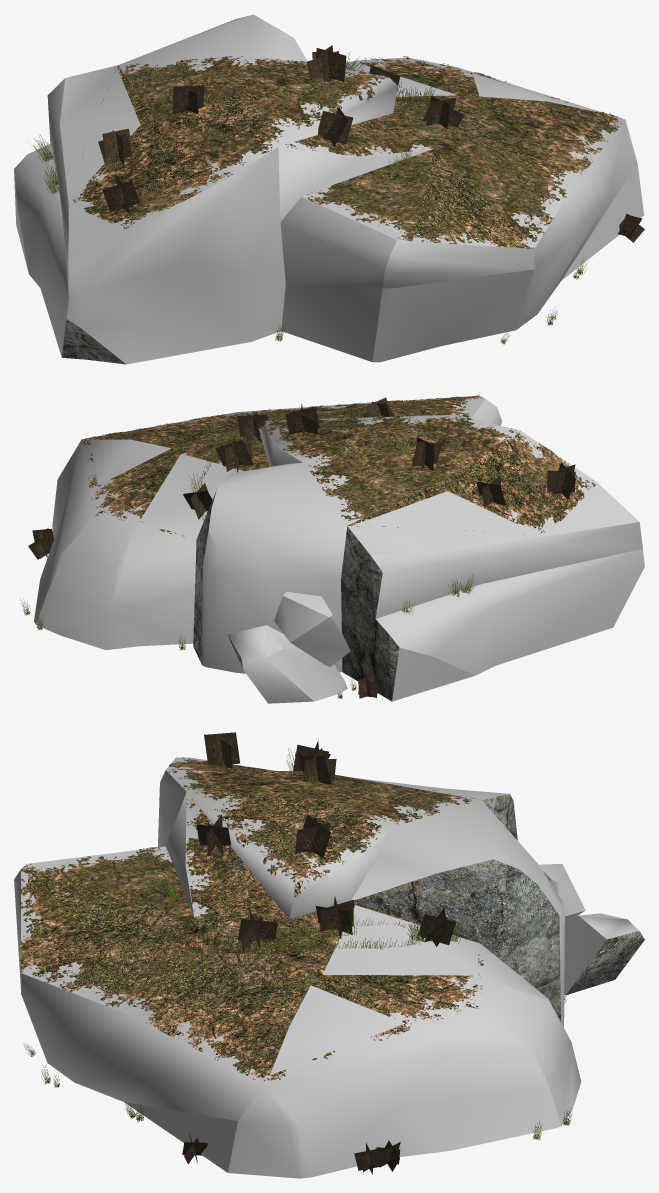
File: RockOutcrop3.obj
The picture shows the model from 3 angles, top to bottom: view 1: azimuth 30°, elevation 25°; view 2: azimuth 150°, elevation 25°; view 3: azimuth 270°, elevation 25°; orthographic projection. The views are drawn at different scales.
Visible parts, largest first — view 1: outcropC, outcropCsoil, drybush45, drybush32, drybush30, drybush43, drybush46, drybush31, drygrassrow01; view 2: outcropC, outcropCsoil, drybush44, drybush45, drybush31, drybush46, drybush43, drybush32, drybush29; view 3: outcropC, outcropCsoil, drygrassrow01, drybush31, drybush45, drybush44, drybush46, drybush43, drybush29, drybush30.
Boxes of the visible parts, <box> form: outcropC: <box>14,14,643,364</box>; outcropCsoil: <box>72,56,621,248</box>; drybush45: <box>306,45,346,82</box>; drybush32: <box>98,128,132,165</box>; drybush30: <box>318,107,353,146</box>; drybush43: <box>423,96,463,129</box>; drybush46: <box>172,82,204,116</box>; drybush31: <box>102,174,139,213</box>; drygrassrow01: <box>396,81,476,156</box>; outcropC: <box>34,396,644,703</box>; outcropCsoil: <box>82,395,595,536</box>; drybush44: <box>215,436,253,471</box>; drybush45: <box>285,403,319,436</box>; drybush31: <box>547,463,576,499</box>; drybush46: <box>411,437,441,471</box>; drybush43: <box>237,411,267,441</box>; drybush32: <box>476,476,505,510</box>; drybush29: <box>183,483,212,519</box>; outcropC: <box>14,757,644,1178</box>; outcropCsoil: <box>20,757,483,1081</box>; drygrassrow01: <box>169,911,434,954</box>; drybush31: <box>204,732,240,768</box>; drybush45: <box>295,814,330,858</box>; drybush44: <box>316,896,353,938</box>; drybush46: <box>299,748,336,784</box>; drybush43: <box>238,909,277,949</box>; drybush29: <box>418,907,456,946</box>; drybush30: <box>196,814,230,856</box>.
Size of the model in its own units: 54.67 by 18.56 by 46.9.
